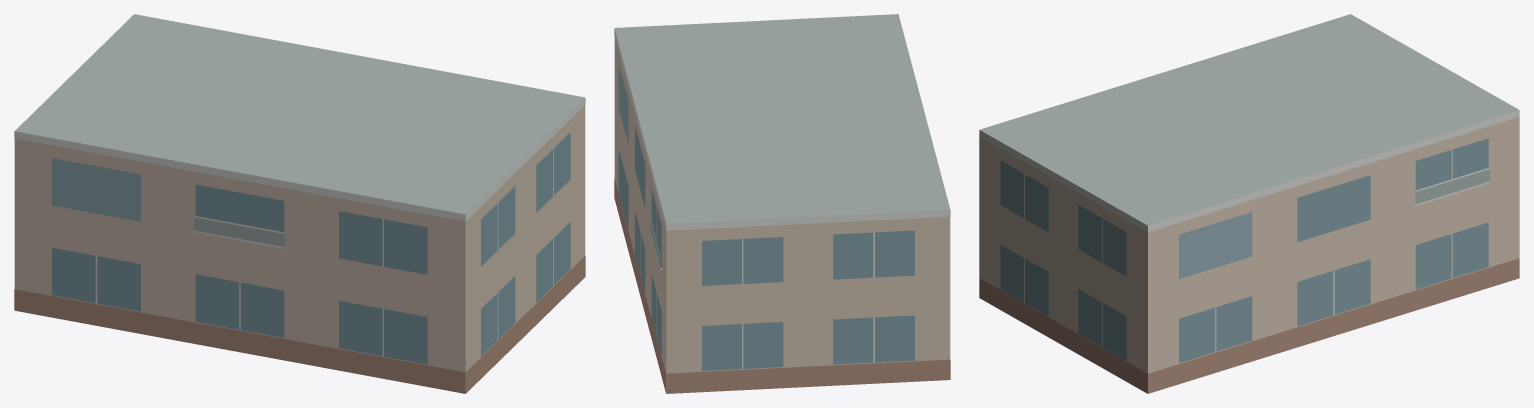
Rendered from survey-upis-32823534.glb.
3 renders of one model, left to right at view 1: azimuth 30°, elevation 25°; view 2: azimuth 150°, elevation 25°; view 3: azimuth 270°, elevation 25°, orthographic. The views are drawn at different scales.
Visible parts, largest first — view 1: survey-upis-32823534.tmp; view 2: survey-upis-32823534.tmp; view 3: survey-upis-32823534.tmp.
Boxes of the visible parts, left/top/right/bottom form: survey-upis-32823534.tmp: left=14, top=14, right=585, bottom=393; survey-upis-32823534.tmp: left=614, top=14, right=950, bottom=393; survey-upis-32823534.tmp: left=979, top=14, right=1519, bottom=393.
Size of the model in its own units: 16.47 by 6.1 by 17.77.
